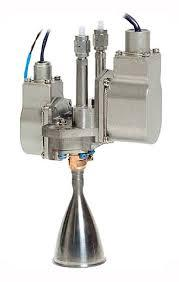thruster: (52, 183, 108, 269)
